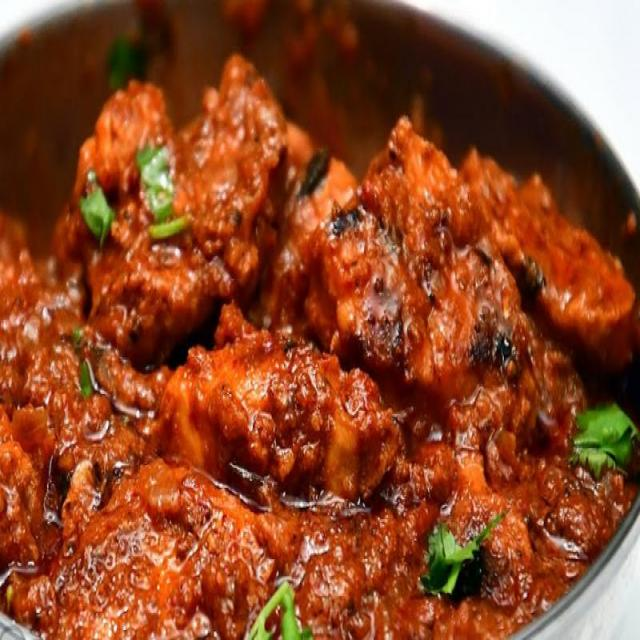chicken: (0, 95, 614, 615)
